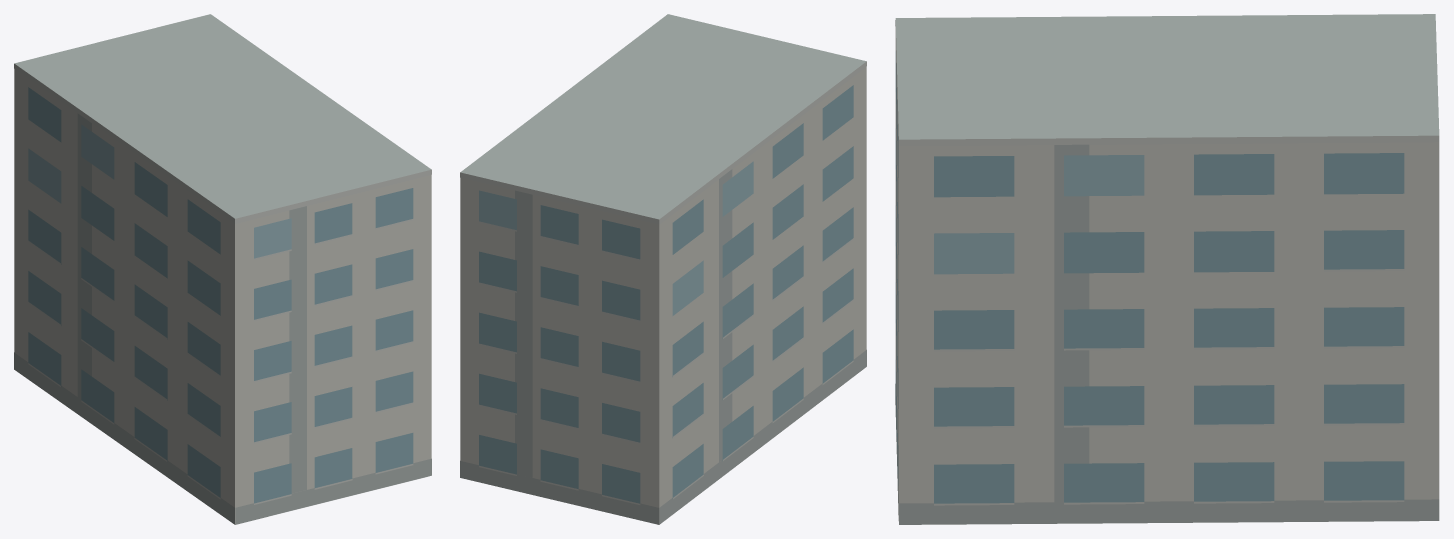
Rendered from survey-upis-32641241.glb.
3 renders of one model, left to right at view 1: azimuth 30°, elevation 25°; view 2: azimuth 150°, elevation 25°; view 3: azimuth 270°, elevation 25°, orthographic. The views are drawn at different scales.
Visible parts, largest first — view 1: survey-upis-32641241.tmp; view 2: survey-upis-32641241.tmp; view 3: survey-upis-32641241.tmp.
Boxes of the visible parts, bbox=[...] form: survey-upis-32641241.tmp: bbox=[14, 14, 431, 524]; survey-upis-32641241.tmp: bbox=[460, 14, 866, 524]; survey-upis-32641241.tmp: bbox=[895, 14, 1439, 524].
Size of the model in its own units: 10.15 by 14.5 by 18.56.
